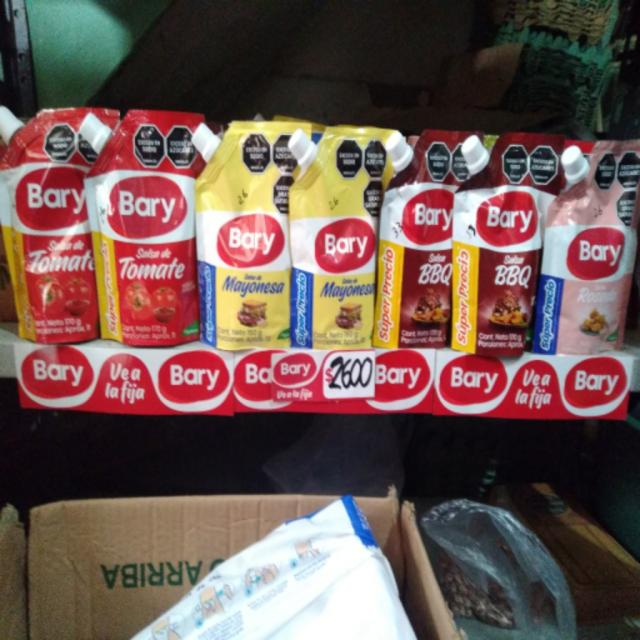BBQ: (448, 131, 549, 348), (387, 132, 460, 348)
Mayonesa: (194, 111, 302, 352), (303, 125, 379, 347)
Precio: (323, 356, 379, 402)
Rosada: (552, 132, 640, 362)
Tomate: (92, 108, 204, 349), (1, 99, 106, 348)
